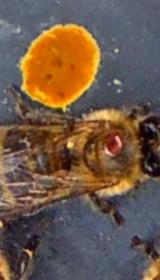varroa_mite: (95, 125, 128, 163)
